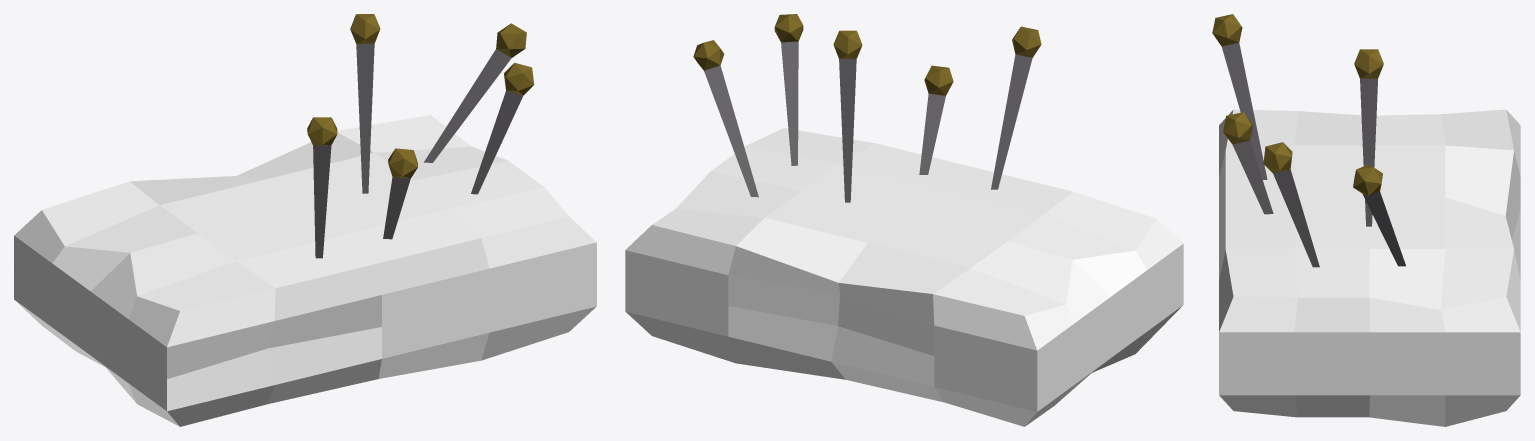
File: neddlepillow01.gltf
3 renders of one model, left to right at view 1: azimuth 30°, elevation 25°; view 2: azimuth 150°, elevation 25°; view 3: azimuth 270°, elevation 25°, orthographic. The views are drawn at different scales.
Visible parts, largest first — view 1: Cube; view 2: Cube; view 3: Cube.
Part boxes in pixels (x1,y1,x2,y2): Cube: [14, 14, 596, 426]; Cube: [625, 14, 1183, 426]; Cube: [1212, 14, 1520, 426].
Size of the model in its own units: 0.0539 by 0.0361 by 0.0336.
1 material, 1 textured.
